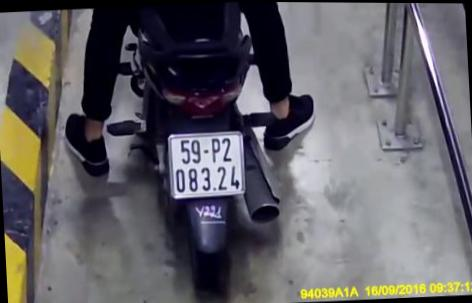LP: (168, 129, 246, 198)
